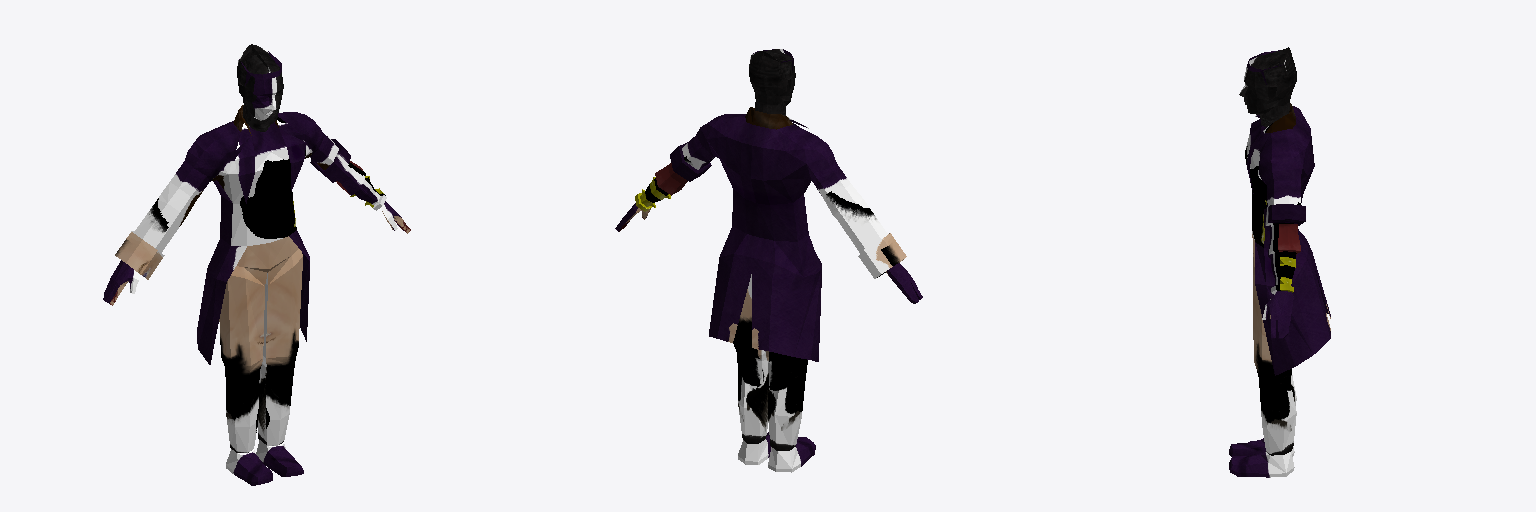
The picture shows the model from 3 angles: view 1: azimuth 30°, elevation 25°; view 2: azimuth 150°, elevation 25°; view 3: azimuth 270°, elevation 25°; orthographic projection.
Visible parts, largest first — view 1: Plane; view 2: Plane; view 3: Plane.
Boxes of the visible parts, box(x1,y1,x2,y2) form: Plane: box(103, 44, 410, 485); Plane: box(615, 49, 922, 472); Plane: box(1229, 47, 1330, 477).
Bounding box in the file's own units: 38.44 × 50.63 × 11.34.
Materials: 1 (1 with a texture image).